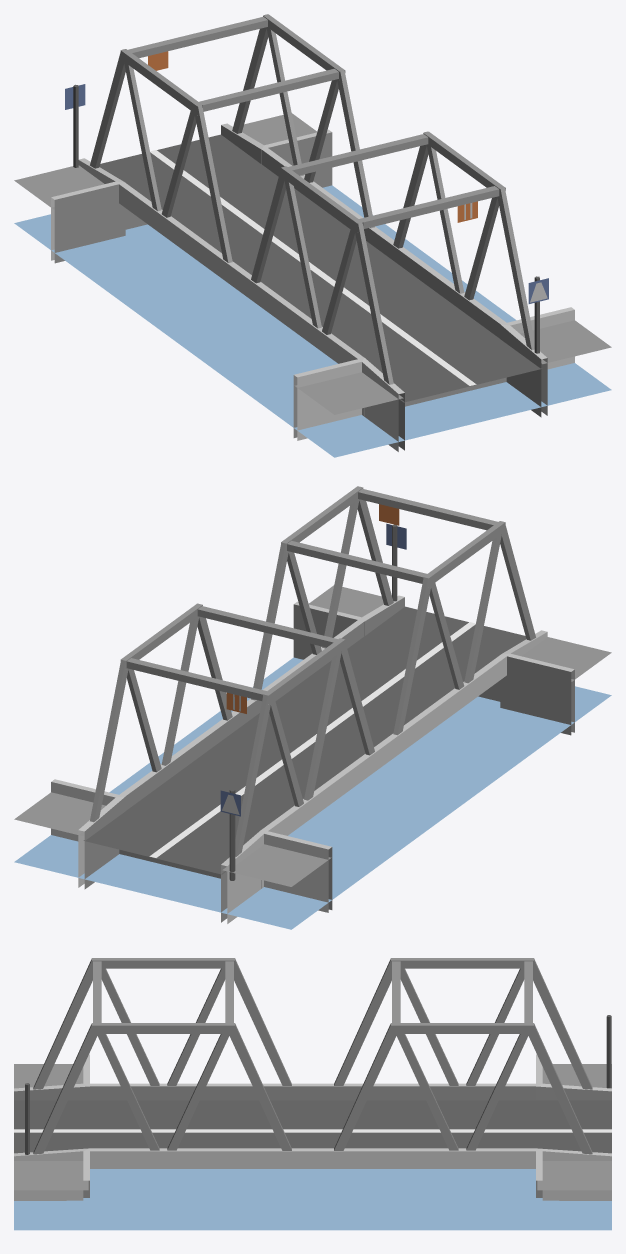
File: road_tile_bridge_2x2_007.fbx
3 views of the same model, one above another, from view 1: azimuth 30°, elevation 25°; view 2: azimuth 150°, elevation 25°; view 3: azimuth 270°, elevation 25° (orthographic). The views are drawn at different scales.
Visible parts, largest first — view 1: road_tile_bridge_2x2_007; view 2: road_tile_bridge_2x2_007; view 3: road_tile_bridge_2x2_007.
Part boxes in pixels (x1,y1,x2,y2): road_tile_bridge_2x2_007: (14, 14, 611, 457); road_tile_bridge_2x2_007: (14, 486, 611, 929); road_tile_bridge_2x2_007: (14, 958, 611, 1230).
Bounding box in the file's own units: 800 × 546 × 1600.
